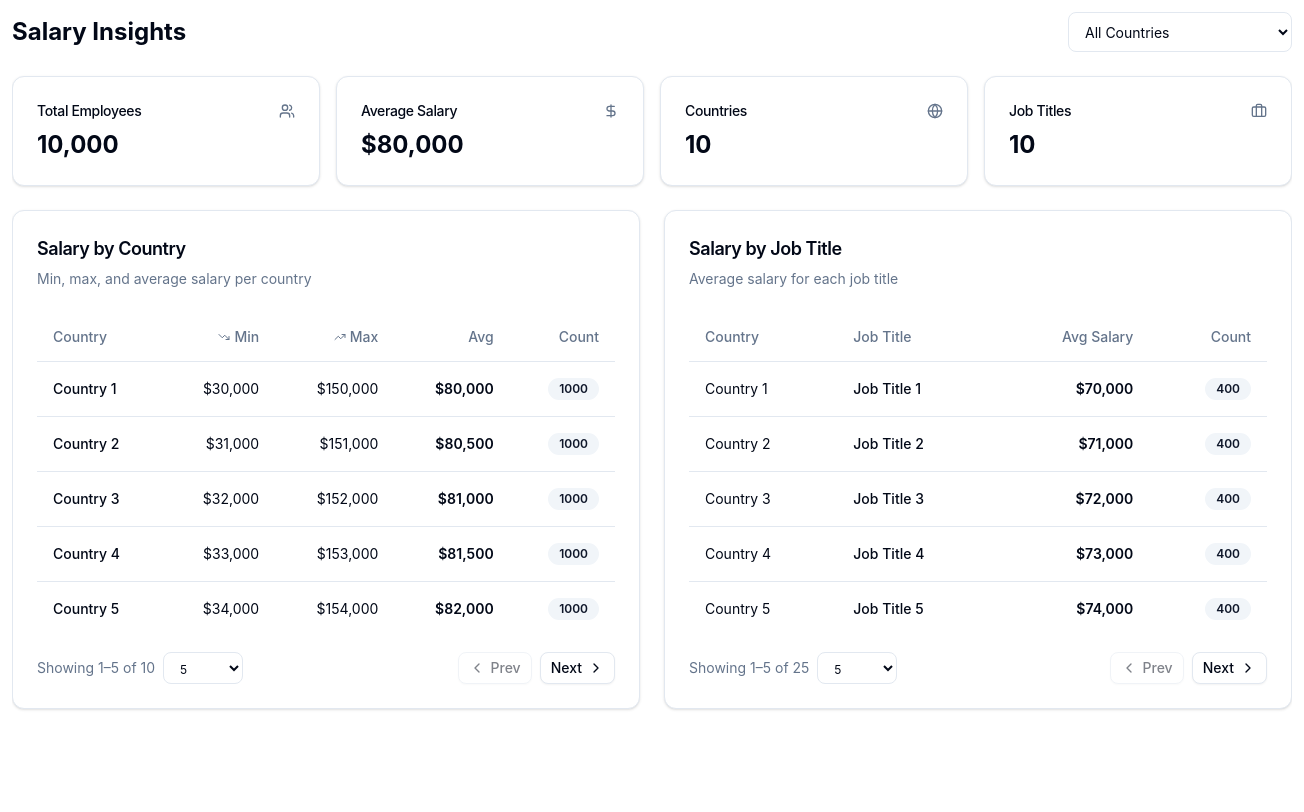
Test: SalaryInsights › should navigate pages in Salary by Job Title section
Expected: the text "Showing 1–5 of 25" is shown, [689, 658, 809, 678]
// Click the job title section's Next button (second one)
Click the button "Next" in the row of "25" at (1229, 668), box [1192, 652, 1267, 684]
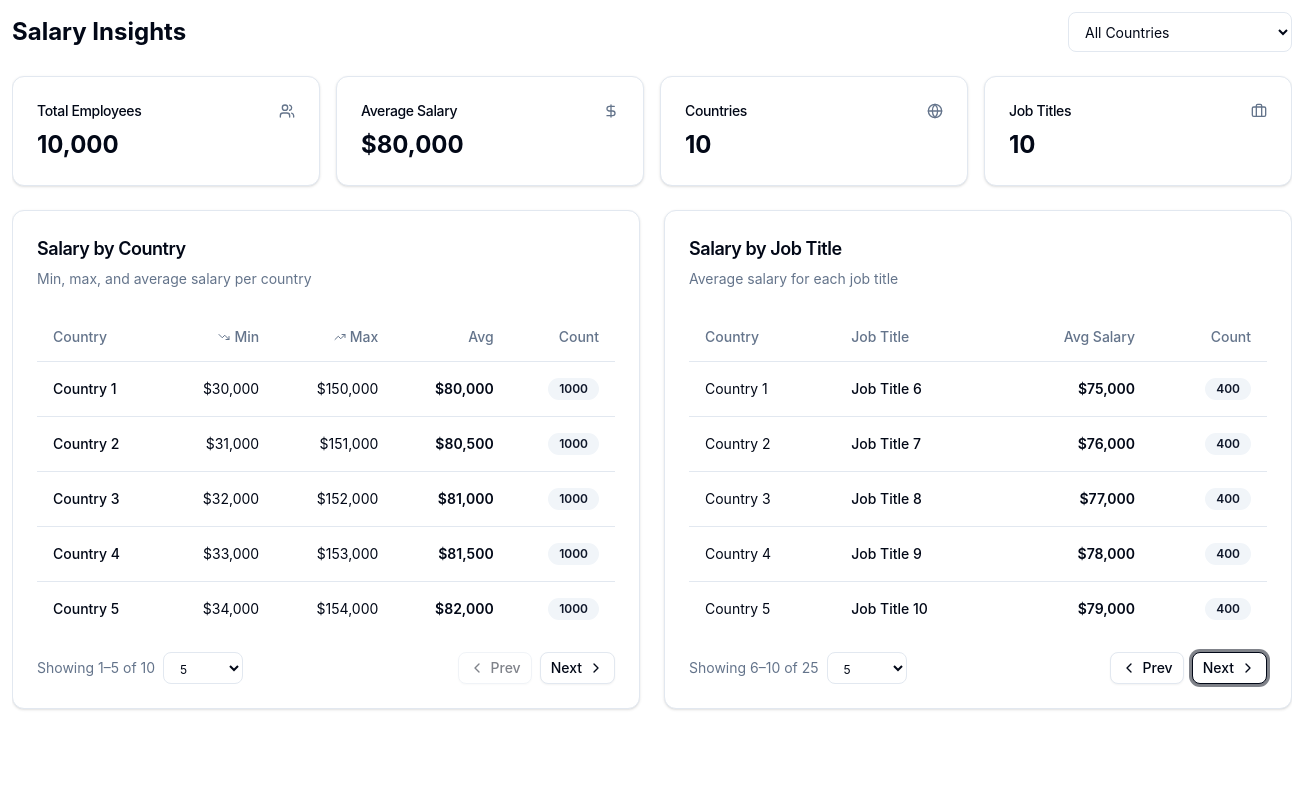
Expected: the text "Showing 6–10 of 25" is shown, [689, 658, 819, 678]
